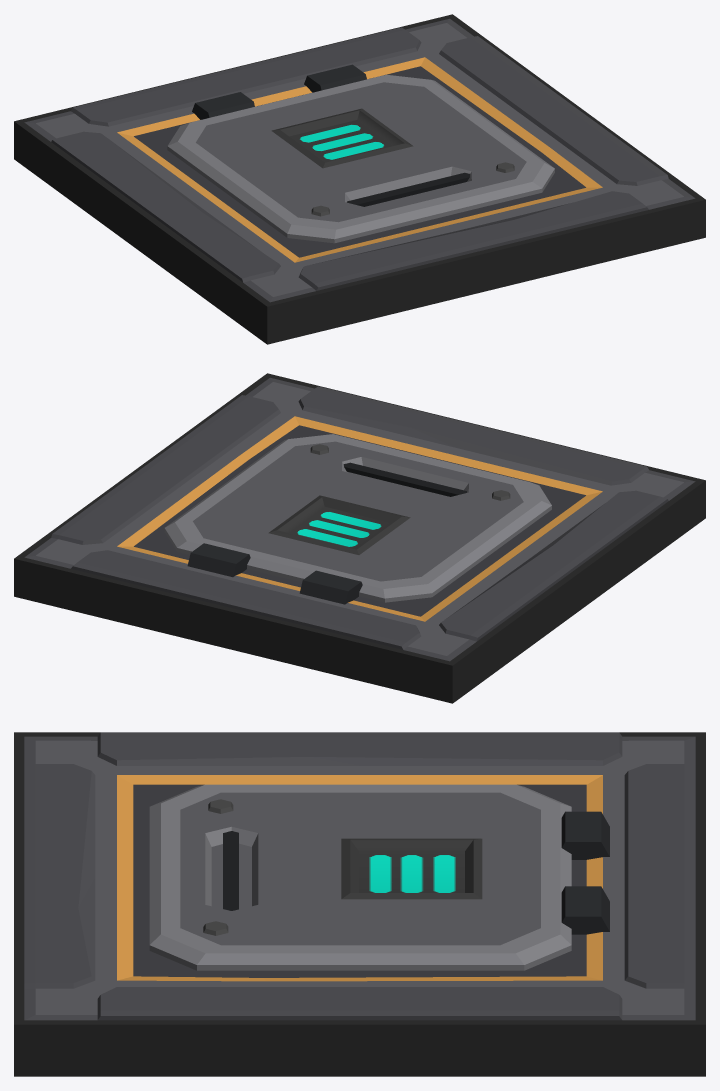
The model's file is SM_Bld_Floor_Small_Hatch_01.glb.
The picture shows the model from 3 angles, top to bottom: view 1: azimuth 30°, elevation 25°; view 2: azimuth 150°, elevation 25°; view 3: azimuth 270°, elevation 25°; orthographic projection. The views are drawn at different scales.
Visible parts, largest first — view 1: SM_Bld_Floor_Small_Hatch_01, SM_Bld_Floor_Small_Hatch_Door_01; view 2: SM_Bld_Floor_Small_Hatch_01, SM_Bld_Floor_Small_Hatch_Door_01; view 3: SM_Bld_Floor_Small_Hatch_01, SM_Bld_Floor_Small_Hatch_Door_01.
Boxes of the visible parts, x1=… form: SM_Bld_Floor_Small_Hatch_01: x1=14, y1=14, x2=705, y2=344; SM_Bld_Floor_Small_Hatch_Door_01: x1=167, y1=74, x2=554, y2=243; SM_Bld_Floor_Small_Hatch_01: x1=14, y1=373, x2=705, y2=703; SM_Bld_Floor_Small_Hatch_Door_01: x1=164, y1=434, x2=551, y2=602; SM_Bld_Floor_Small_Hatch_01: x1=14, y1=732, x2=705, y2=1076; SM_Bld_Floor_Small_Hatch_Door_01: x1=149, y1=784, x2=571, y2=970.
Bounding box in the file's own units: 2.5 × 0.2948 × 2.5.
1 material, 1 textured.
